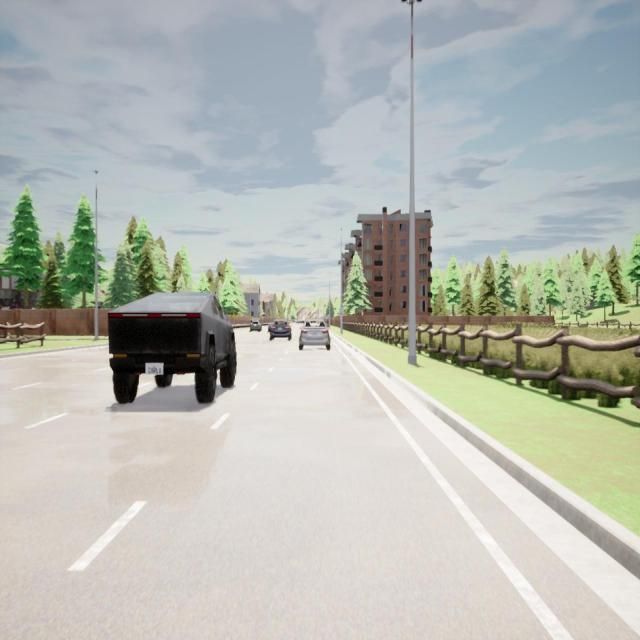Traffic_Signs: (339, 310, 344, 316), (232, 314, 235, 319), (248, 316, 252, 318)
Vehicle: (108, 292, 236, 403), (298, 318, 330, 351), (268, 318, 292, 341), (250, 319, 262, 332)
